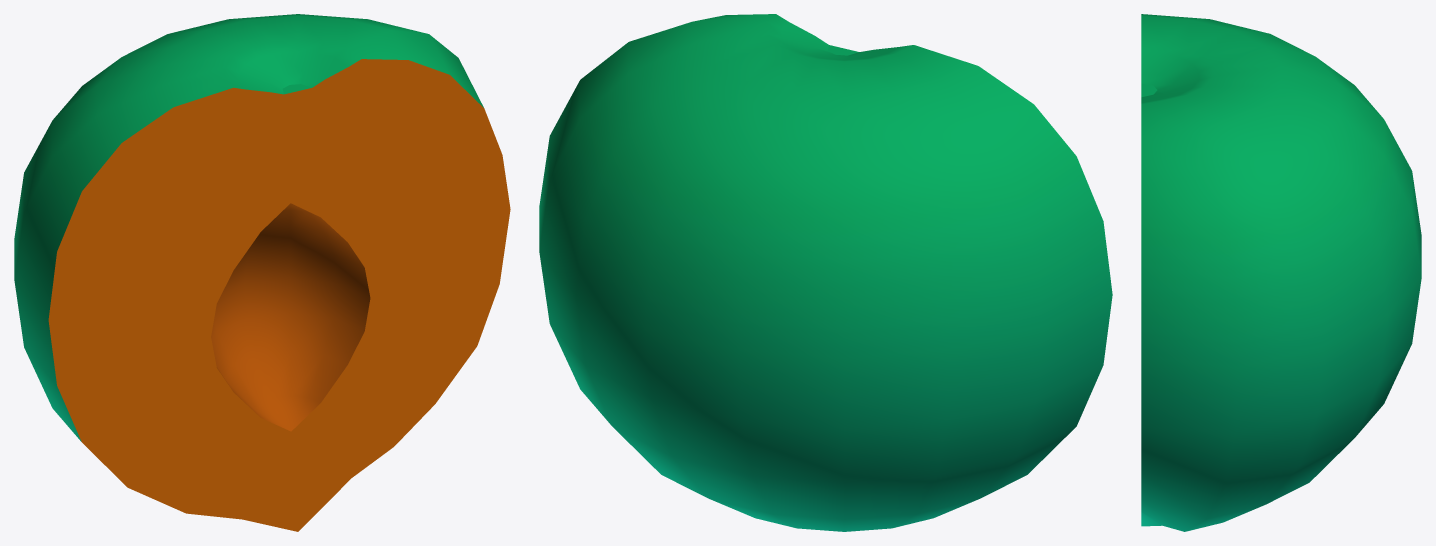
Rendered from Peach_half_01.fbx.
3 renders of one model, left to right at view 1: azimuth 30°, elevation 25°; view 2: azimuth 150°, elevation 25°; view 3: azimuth 270°, elevation 25°, orthographic. The views are drawn at different scales.
Parts seen in each view (by area): view 1: Peach_half_01; view 2: Peach_half_01; view 3: Peach_half_01.
Boxes of the visible parts, left/top/right/bottom form: Peach_half_01: left=14, top=14, right=510, bottom=531; Peach_half_01: left=539, top=14, right=1112, bottom=531; Peach_half_01: left=1141, top=14, right=1421, bottom=531.
Bounding box in the file's own units: 121 × 110 × 61.53.
